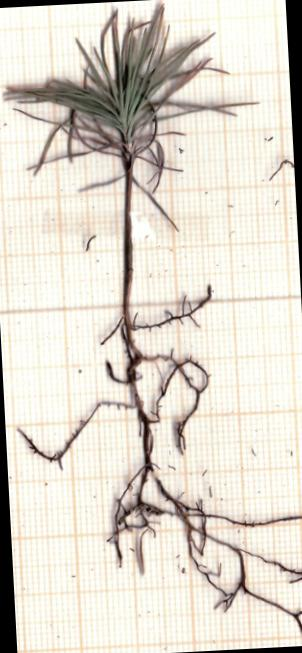flower: (5, 5, 257, 192)
root: (18, 286, 301, 632)
stem: (123, 160, 133, 323)
